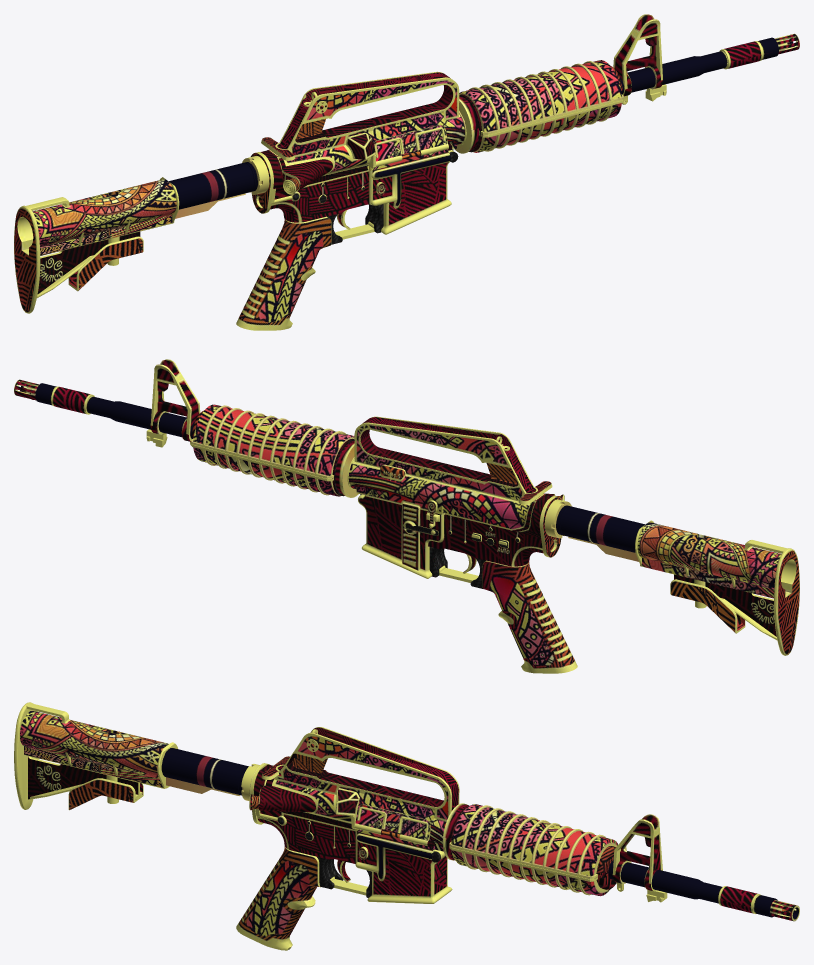
The model's file is w_carbinerifle_soultaker.glb.
The picture shows the model from 3 angles, top to bottom: view 1: azimuth 30°, elevation 25°; view 2: azimuth 150°, elevation 25°; view 3: azimuth 330°, elevation 25°; orthographic projection.
Visible parts, largest first — view 1: Gun_Root; view 2: Gun_Root; view 3: Gun_Root.
Boxes of the visible parts, left/top/right/bottom form: Gun_Root: left=14, top=14, right=799, bottom=330; Gun_Root: left=14, top=359, right=799, bottom=673; Gun_Root: left=14, top=702, right=799, bottom=950.
Bounding box in the file's own units: 0.7831 × 0.2196 × 0.0717.
1 material, 1 textured.
